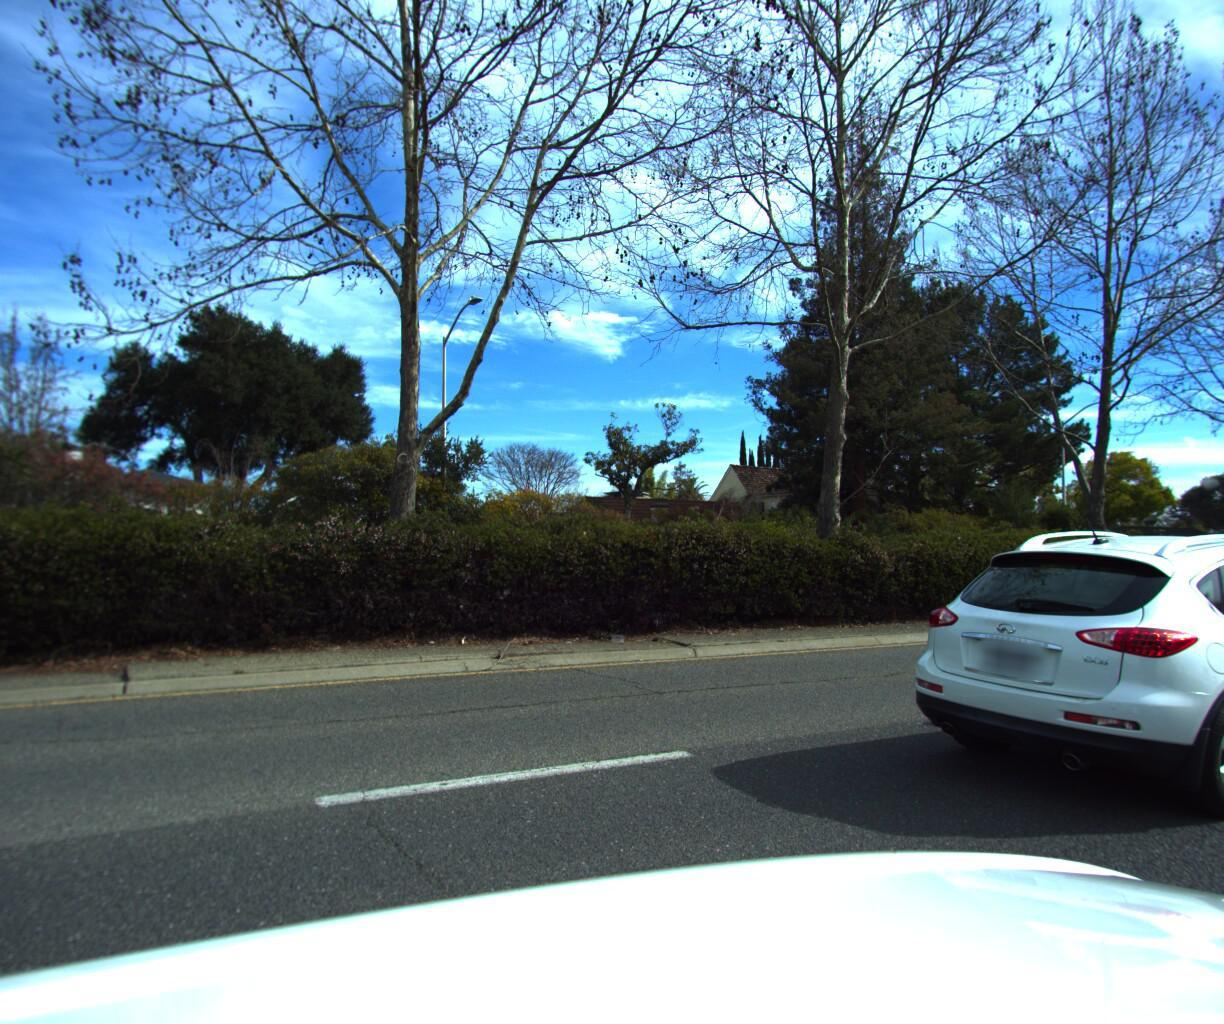car: (871, 511, 1224, 846)
